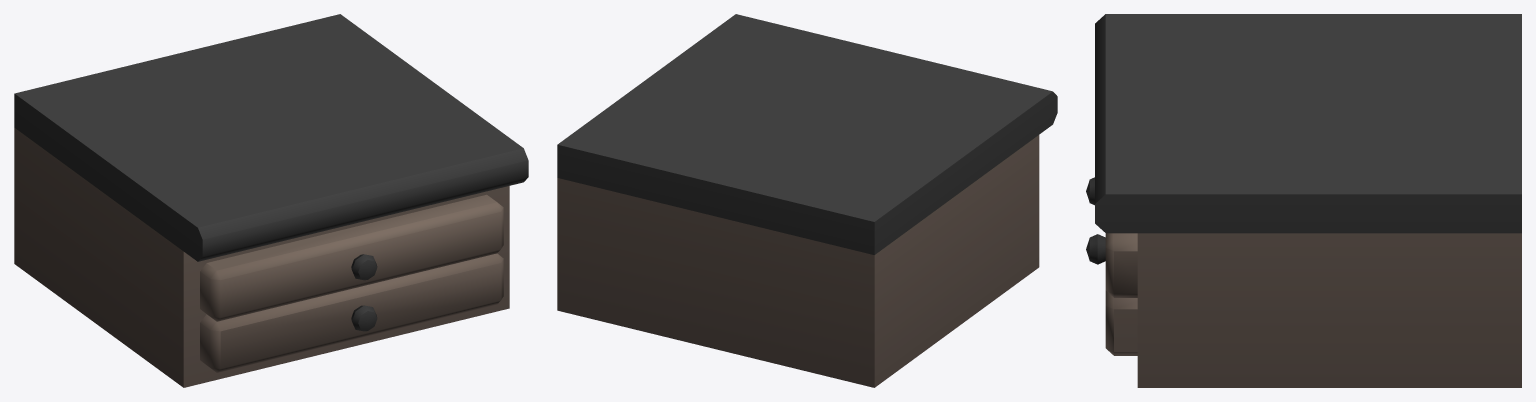
File: kitchencounter_straight_A_styleB.obj
The picture shows the model from 3 angles, left to right: view 1: azimuth 30°, elevation 25°; view 2: azimuth 150°, elevation 25°; view 3: azimuth 270°, elevation 25°; orthographic projection. The views are drawn at different scales.
Visible parts, largest first — view 1: kitchencounter_straight_A_styleB_Cube.020; view 2: kitchencounter_straight_A_styleB_Cube.020; view 3: kitchencounter_straight_A_styleB_Cube.020.
Boxes of the visible parts, x1,y1,x2,y2 form: kitchencounter_straight_A_styleB_Cube.020: (14,14,528,387); kitchencounter_straight_A_styleB_Cube.020: (557,14,1057,387); kitchencounter_straight_A_styleB_Cube.020: (1086,14,1521,387).
Size of the model in its own units: 2 by 1 by 2.04.
Materials: 1 (1 with a texture image).
